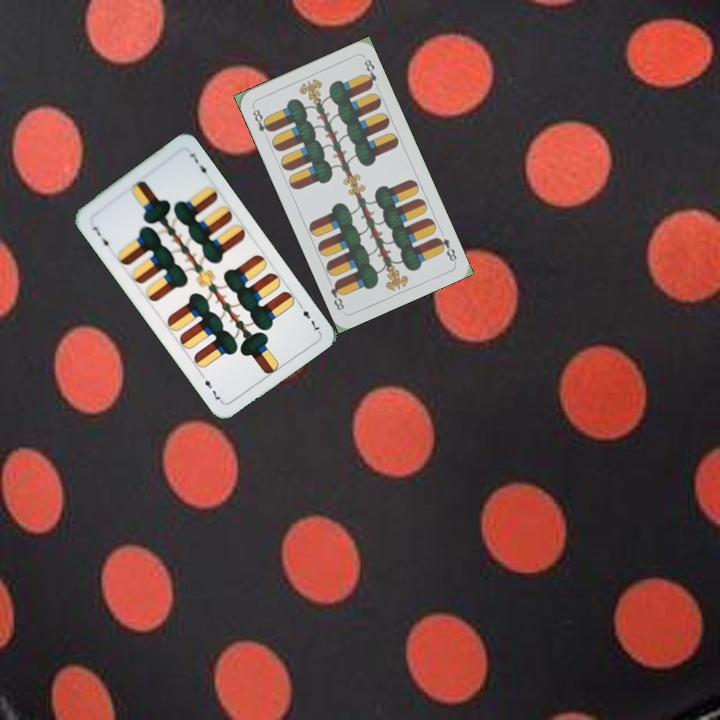E7: (294, 299, 323, 334), (89, 222, 113, 253)
E8: (249, 103, 274, 142), (432, 233, 459, 264)
